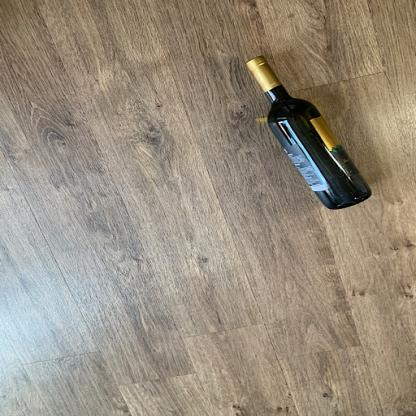trash: (242, 57, 375, 210)
